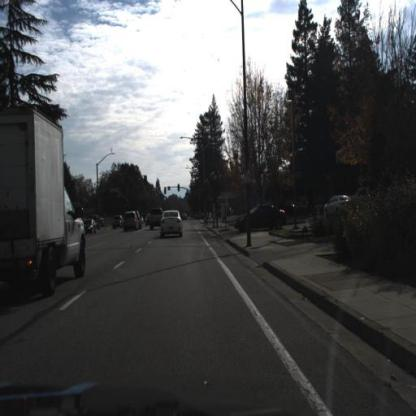car: (233, 203, 288, 234), (346, 183, 386, 212), (321, 192, 352, 221), (325, 194, 351, 226), (159, 207, 183, 237), (149, 206, 163, 229), (125, 213, 139, 234), (112, 213, 125, 234)
truck: (1, 102, 89, 311)
